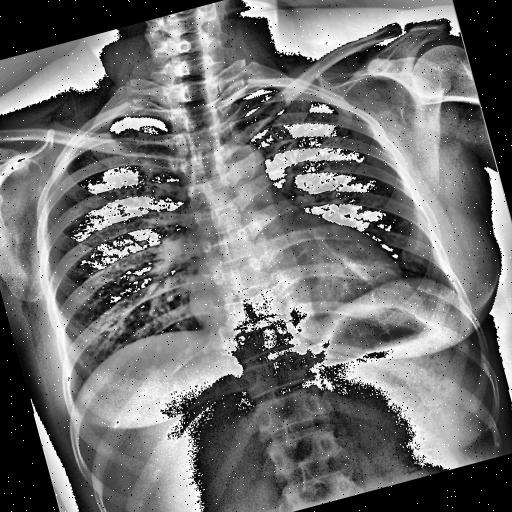11- Pleural thickening: (98, 114, 130, 132)
3- Cardiomegaly: (184, 228, 408, 344), (186, 232, 406, 341), (182, 232, 404, 336)
